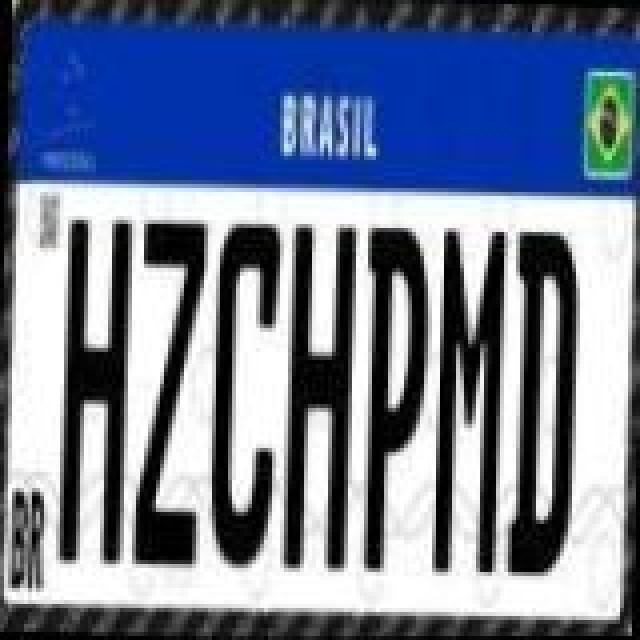C: (208, 214, 284, 570)
D: (504, 228, 580, 580)
H: (56, 214, 132, 570), (280, 224, 356, 572)
M: (432, 224, 508, 576)
P: (356, 224, 432, 576)
Z: (132, 220, 208, 568)
